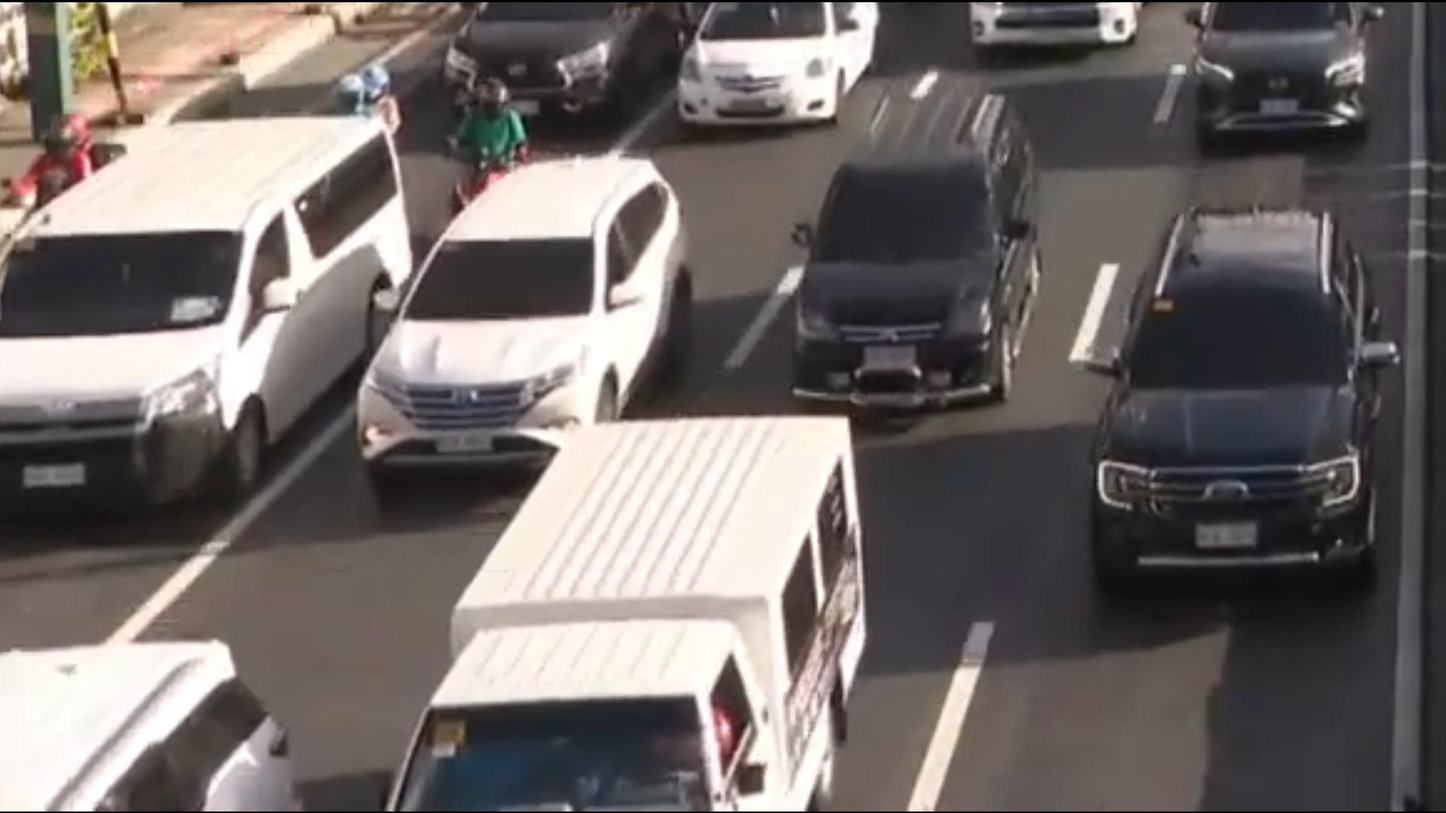Motorcycle: (0, 100, 147, 217), (430, 61, 539, 196), (326, 53, 426, 140)
Multicab: (358, 397, 921, 813)
SUV: (1063, 175, 1446, 639), (343, 143, 712, 474), (0, 625, 307, 813), (1188, 0, 1379, 153), (426, 0, 673, 111), (667, 0, 894, 117)
Van: (0, 110, 441, 539), (775, 91, 1064, 420)
